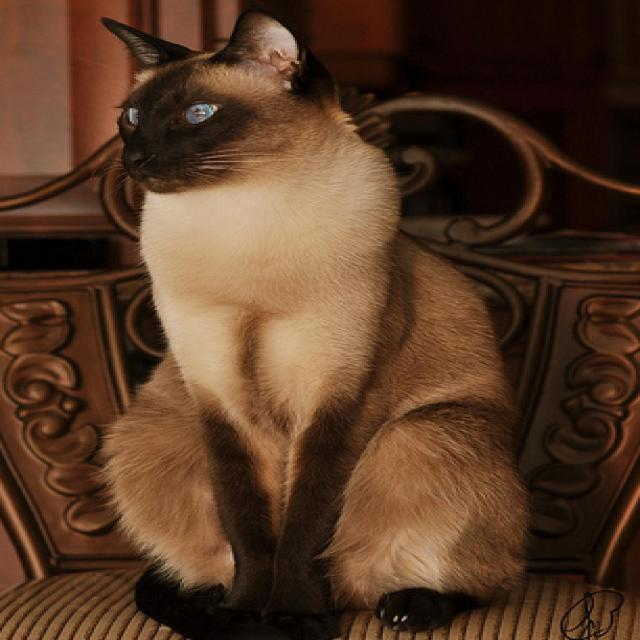Siamese: (92, 0, 533, 640)
